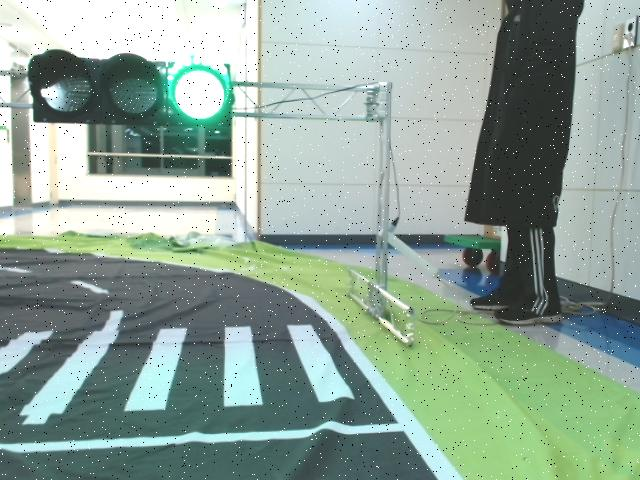crosswalk: (0, 323, 367, 411)
traffic light-green-: (30, 50, 234, 125)
